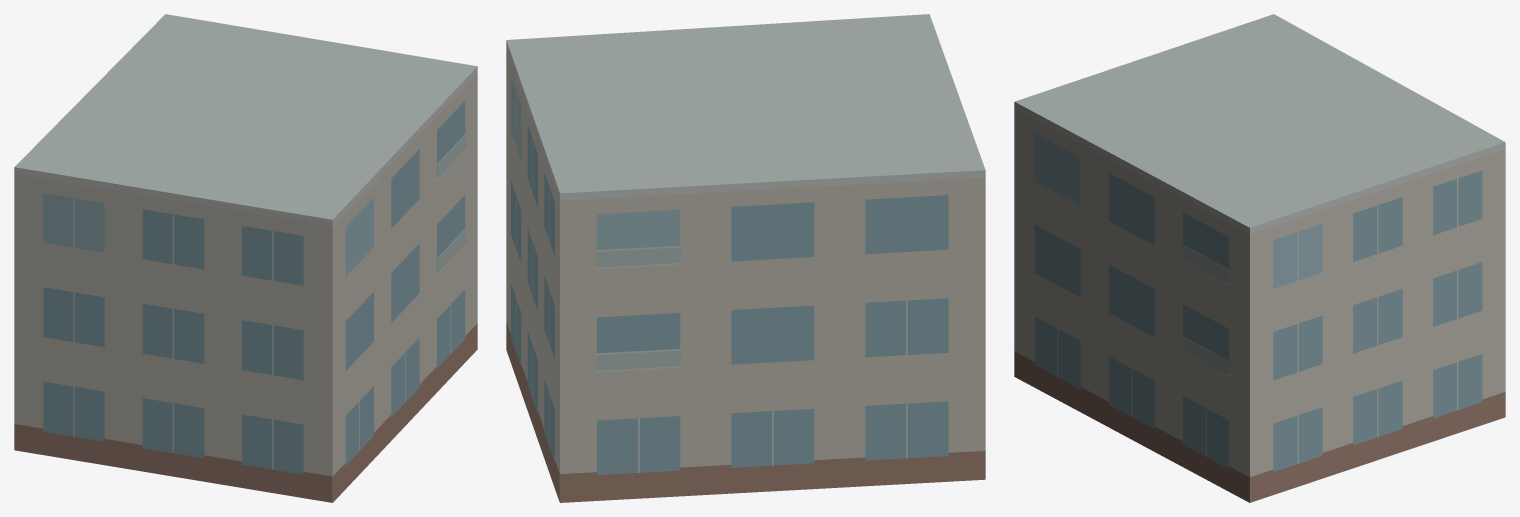
Rendered from survey-upis-32931553.glb.
The picture shows the model from 3 angles, left to right: view 1: azimuth 30°, elevation 25°; view 2: azimuth 150°, elevation 25°; view 3: azimuth 270°, elevation 25°; orthographic projection. The views are drawn at different scales.
Parts seen in each view (by area): view 1: survey-upis-32931553.tmp; view 2: survey-upis-32931553.tmp; view 3: survey-upis-32931553.tmp.
Part boxes in pixels (left/top/right/bottom): survey-upis-32931553.tmp: left=14, top=14, right=477, bottom=502; survey-upis-32931553.tmp: left=506, top=14, right=985, bottom=502; survey-upis-32931553.tmp: left=1014, top=14, right=1505, bottom=502.
Size of the model in its own units: 17.01 by 10.2 by 16.51.
